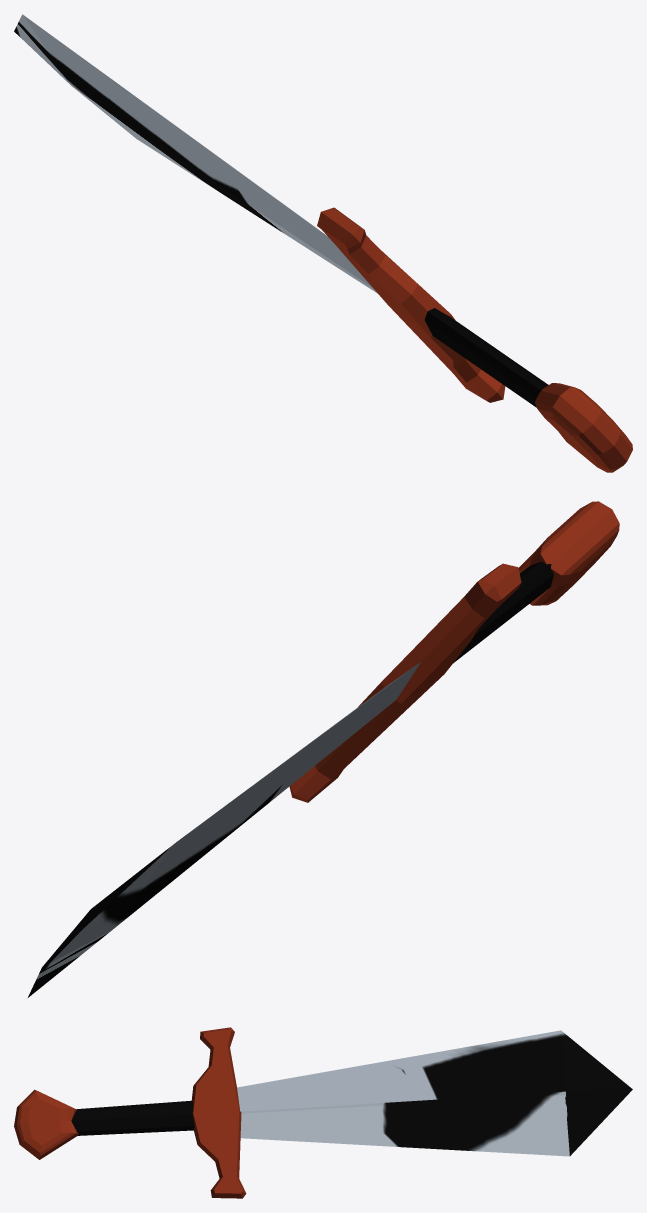
The model's file is sword.fbx.
3 renders of one model, top to bottom at view 1: azimuth 30°, elevation 25°; view 2: azimuth 150°, elevation 25°; view 3: azimuth 270°, elevation 25°, orthographic. The views are drawn at different scales.
Visible parts, largest first — view 1: Sword; view 2: Sword; view 3: Sword.
Part boxes in pixels (x1,y1,x2,y2): Sword: [14, 14, 632, 472]; Sword: [28, 501, 619, 997]; Sword: [14, 1027, 632, 1198].
Size of the model in its own units: 0.159 by 0.1865 by 0.8186.
